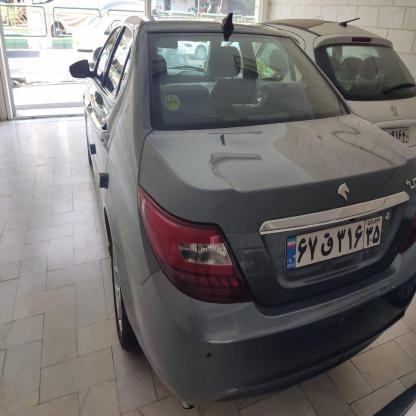Car: (73, 38, 416, 365), (263, 0, 416, 157)
